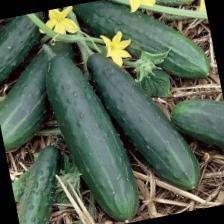cucumber: (83, 37, 205, 206), (38, 42, 145, 224), (72, 0, 213, 100), (5, 142, 77, 224), (167, 92, 224, 167)
